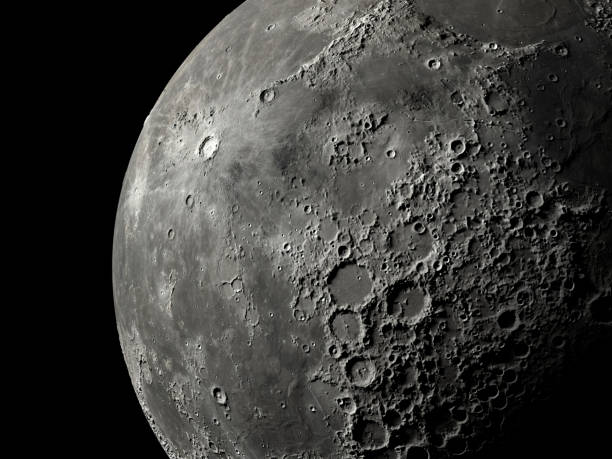crater: (324, 258, 375, 307), (384, 279, 431, 321), (325, 307, 369, 347), (352, 416, 389, 451), (345, 353, 378, 387), (199, 135, 220, 160), (497, 310, 520, 329), (211, 385, 228, 405), (450, 136, 465, 156)
